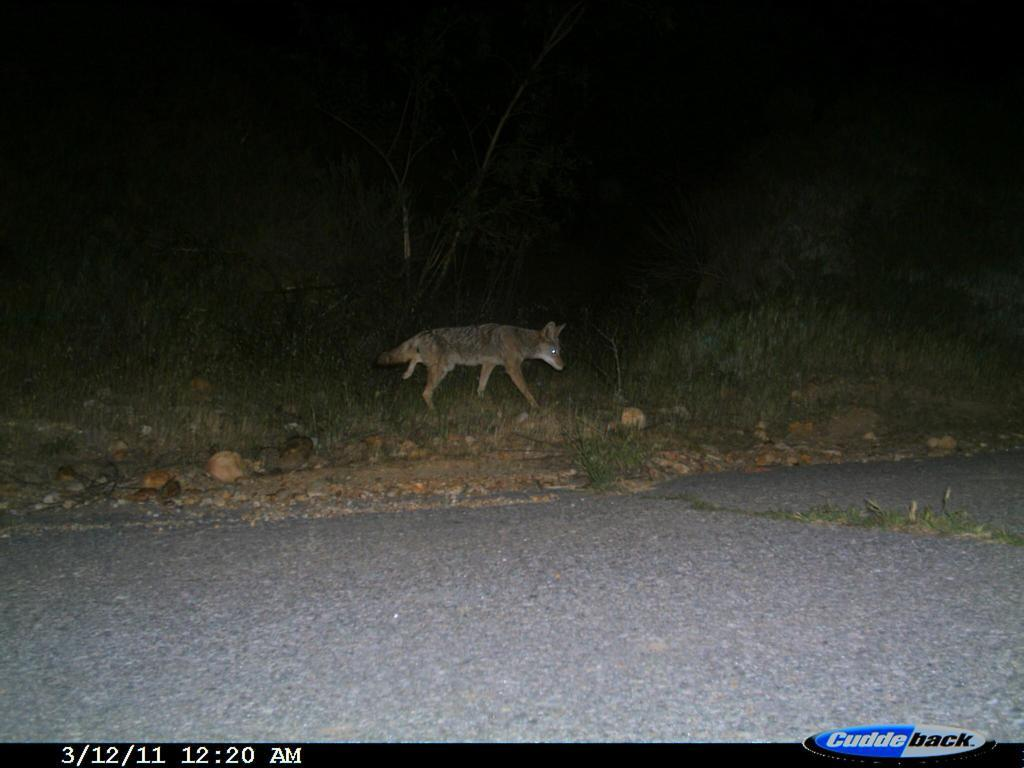coyote: (374, 310, 602, 420)
